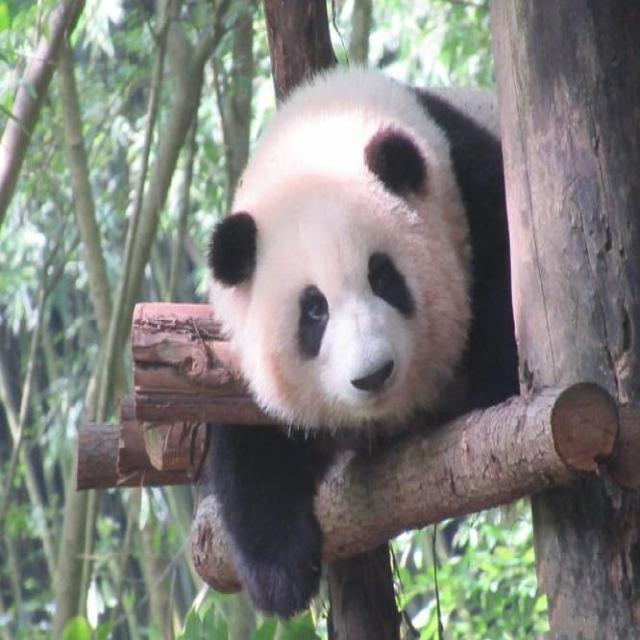panda: (178, 54, 548, 573)
